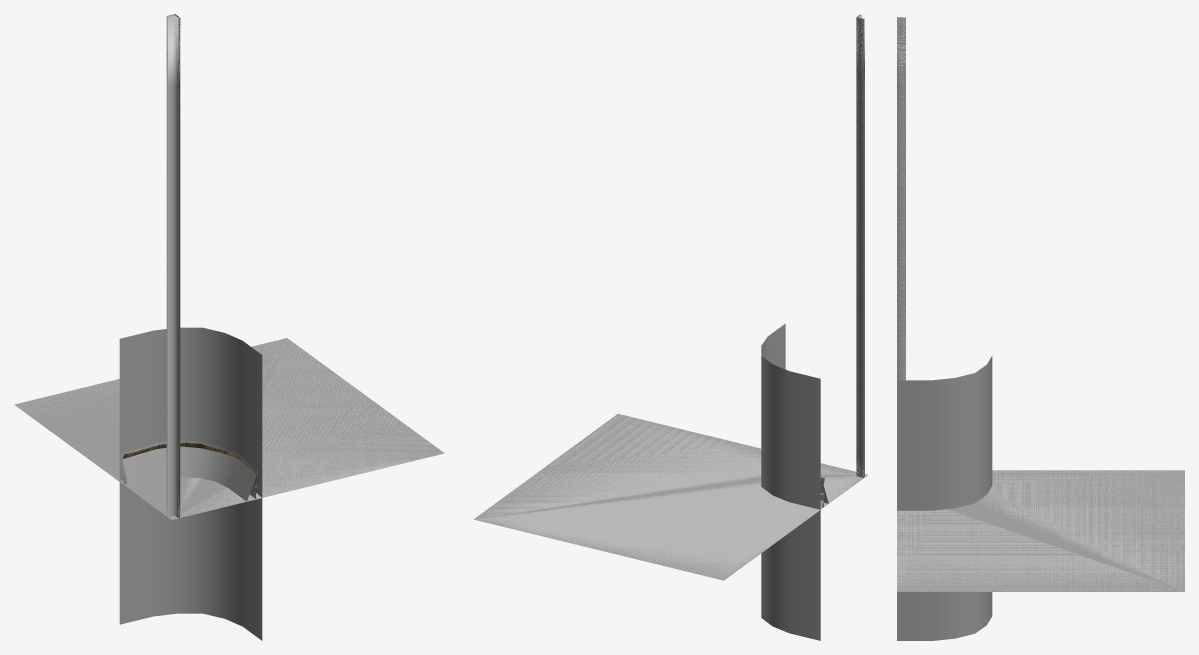
Rendered from roomcornerB1.fbx.
3 renders of one model, left to right at view 1: azimuth 30°, elevation 25°; view 2: azimuth 150°, elevation 25°; view 3: azimuth 270°, elevation 25°, orthographic. The views are drawn at different scales.
Parts seen in each view (by area): view 1: col_w, col_o, mdl_LOD0, mdl2_LOD0; view 2: mdl_LOD0, col_o, col_w; view 3: col_o, mdl_LOD0, col_w.
Part boxes in pixels (bbox=[...]): col_w: bbox=[119, 327, 262, 640]; col_o: bbox=[14, 14, 444, 519]; mdl_LOD0: bbox=[15, 86, 443, 519]; mdl2_LOD0: bbox=[123, 14, 256, 473]; mdl_LOD0: bbox=[474, 83, 866, 579]; col_o: bbox=[473, 14, 868, 580]; col_w: bbox=[761, 323, 820, 640]; col_o: bbox=[897, 17, 1184, 591]; mdl_LOD0: bbox=[897, 84, 1184, 591]; col_w: bbox=[897, 356, 992, 640].
Size of what is drawn, in the model's own units: 1600 by 3600 by 1600.
